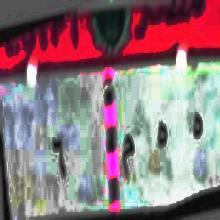6: (48, 132, 67, 190)
haa: (188, 100, 206, 153), (152, 112, 170, 158)
meem: (120, 121, 136, 186)
